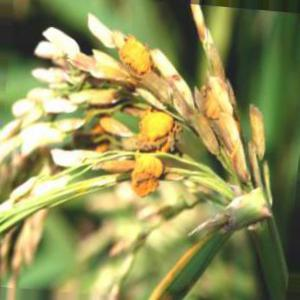Leaf_Scald: (120, 107, 182, 192), (90, 92, 126, 154), (116, 34, 157, 77)
